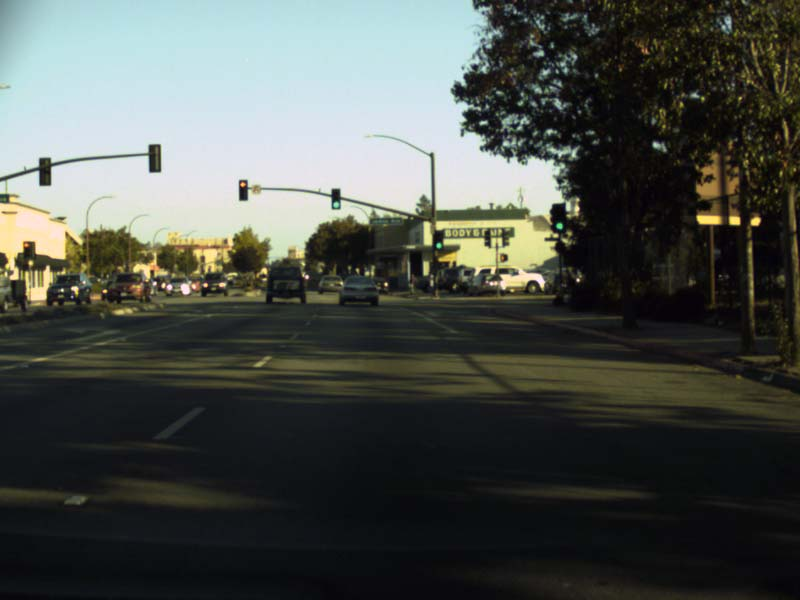Green: (552, 204, 565, 231), (331, 188, 340, 210), (434, 230, 443, 250)
Red: (238, 179, 247, 201), (22, 241, 30, 258)
